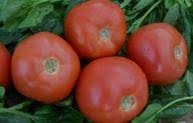tomato: (81, 57, 149, 123)
